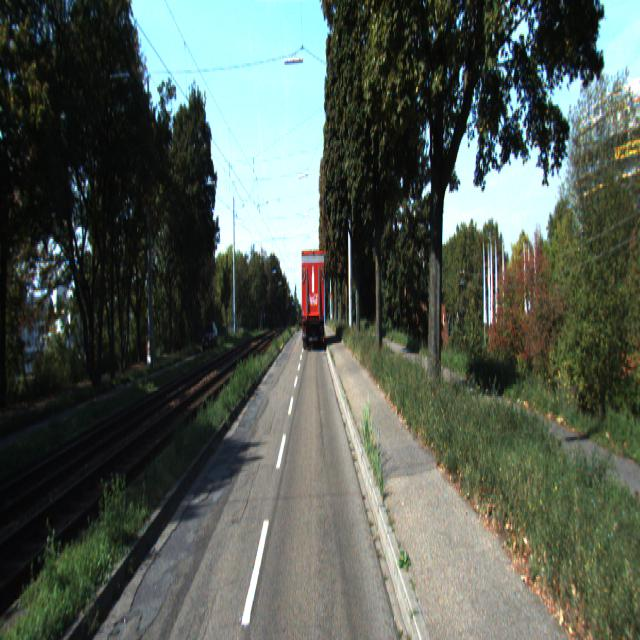Car: (300, 248, 326, 352), (200, 322, 218, 354)
